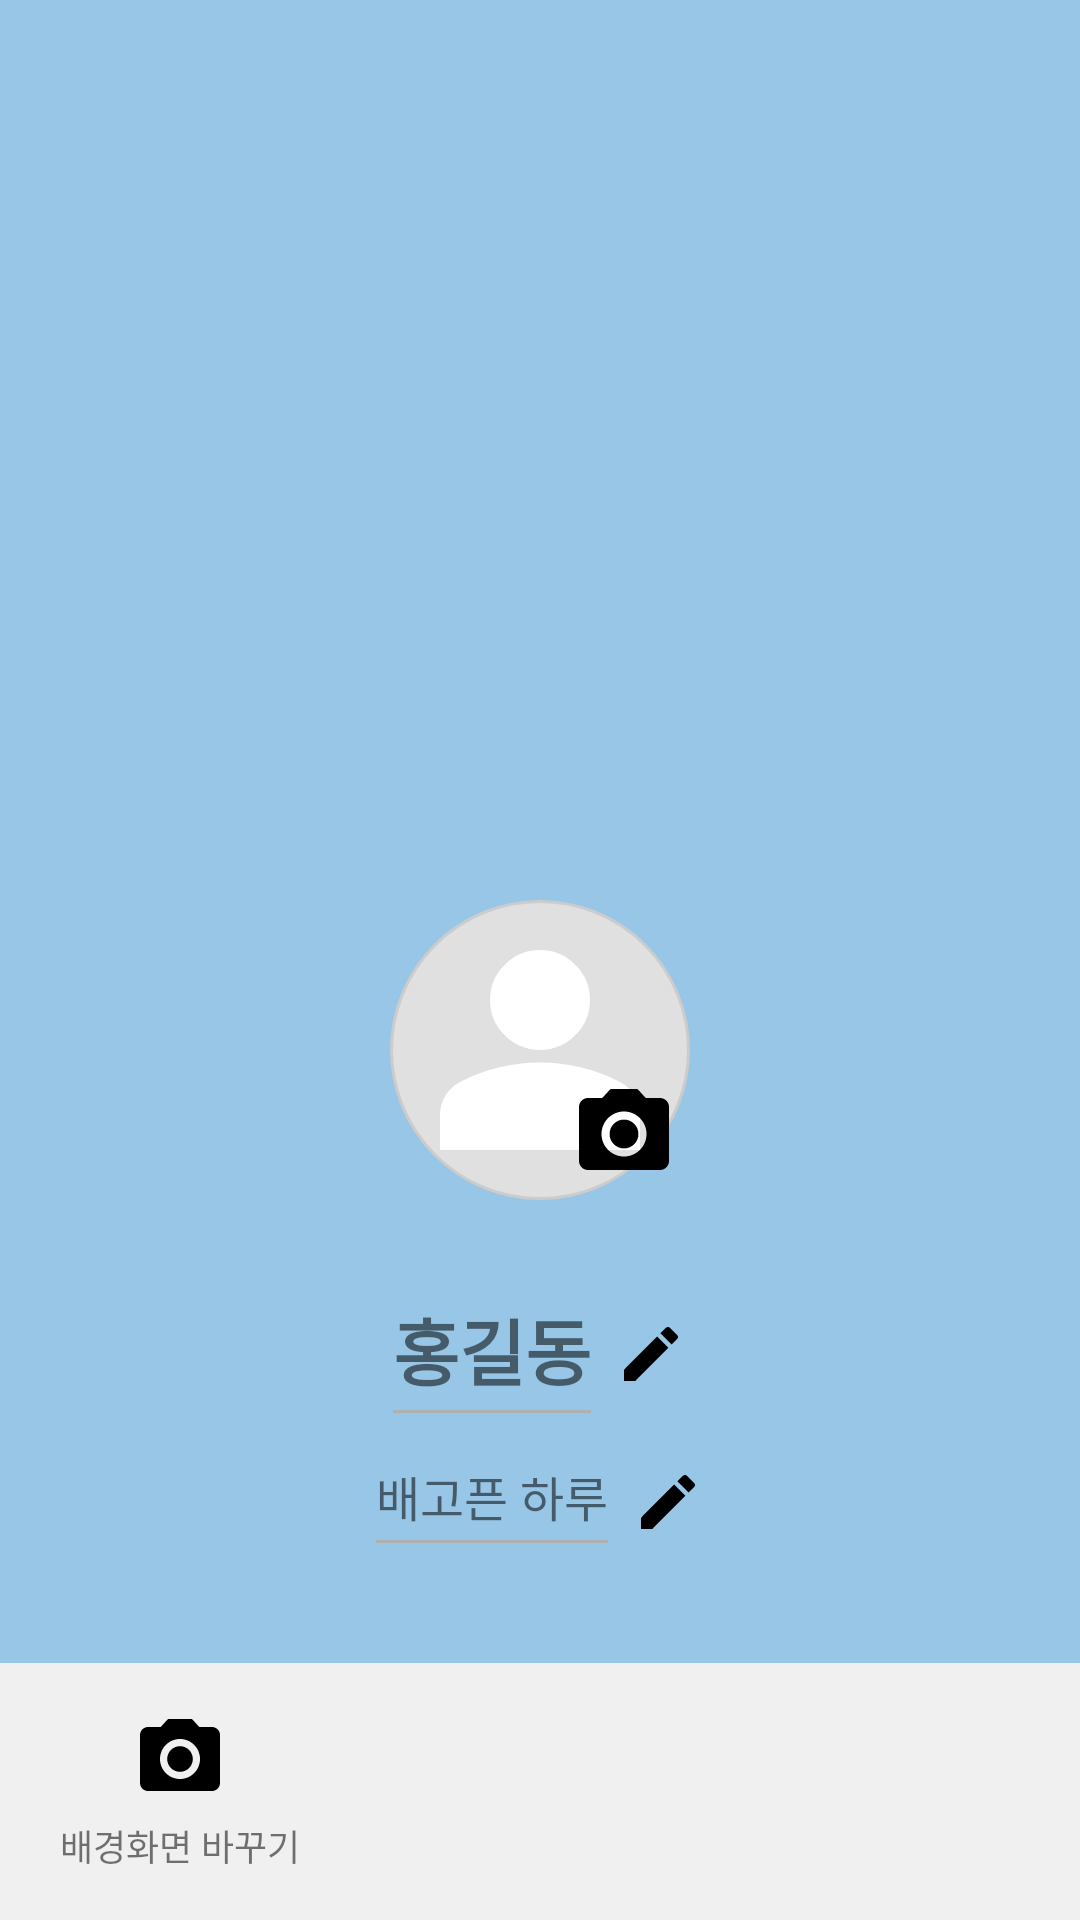

Named icons in this screenshot (1080w x 1920h) and their bounding boxes, {"x1": x1, "y1": y1, "x2": x2, "y2": y2}:
상태 메시지 편집: {"x1": 641, "y1": 1475, "x2": 695, "y2": 1529}
이름 편집: {"x1": 624, "y1": 1327, "x2": 678, "y2": 1381}
